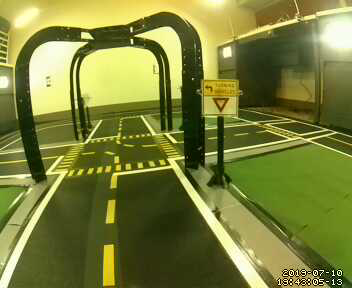Turn Yield: (200, 77, 239, 118)
